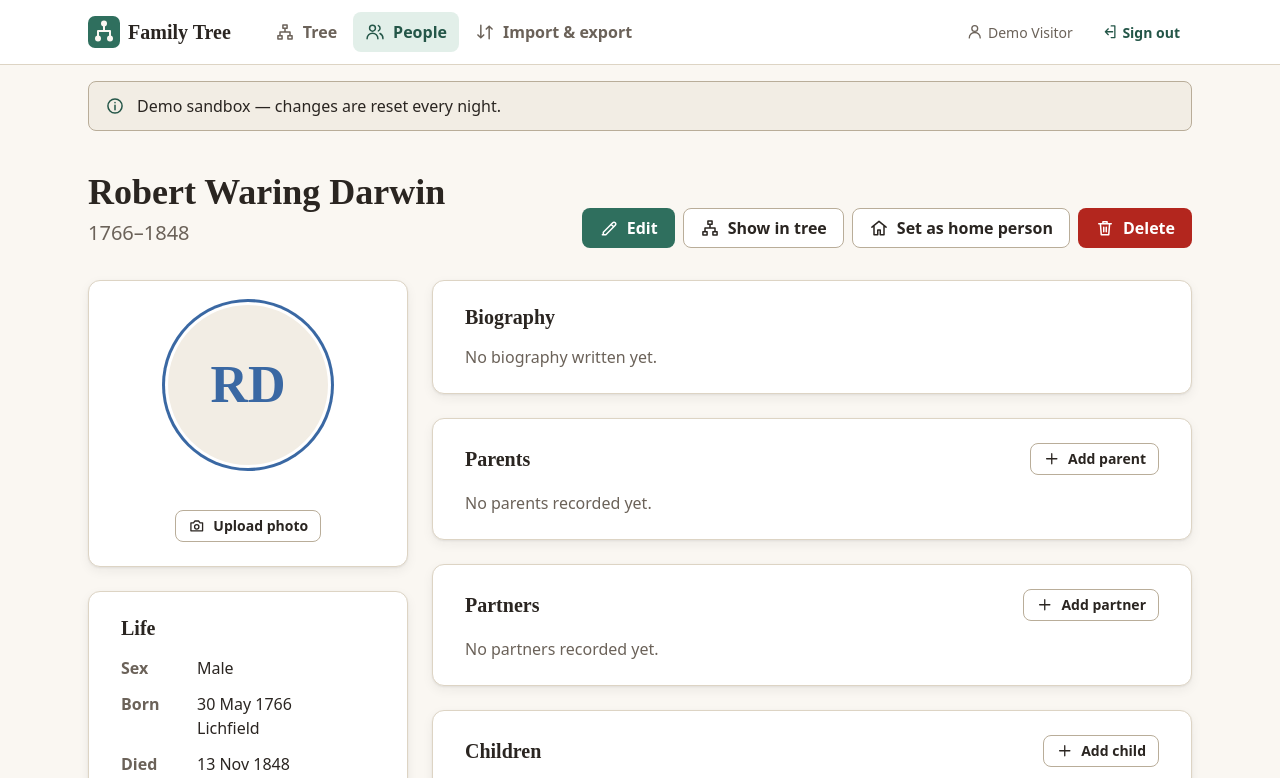
Test: adding a child links the chosen person as a child
Click the button "Add child". click: [1101, 751]
box: x1=1043 y1=735 x2=1159 y2=767
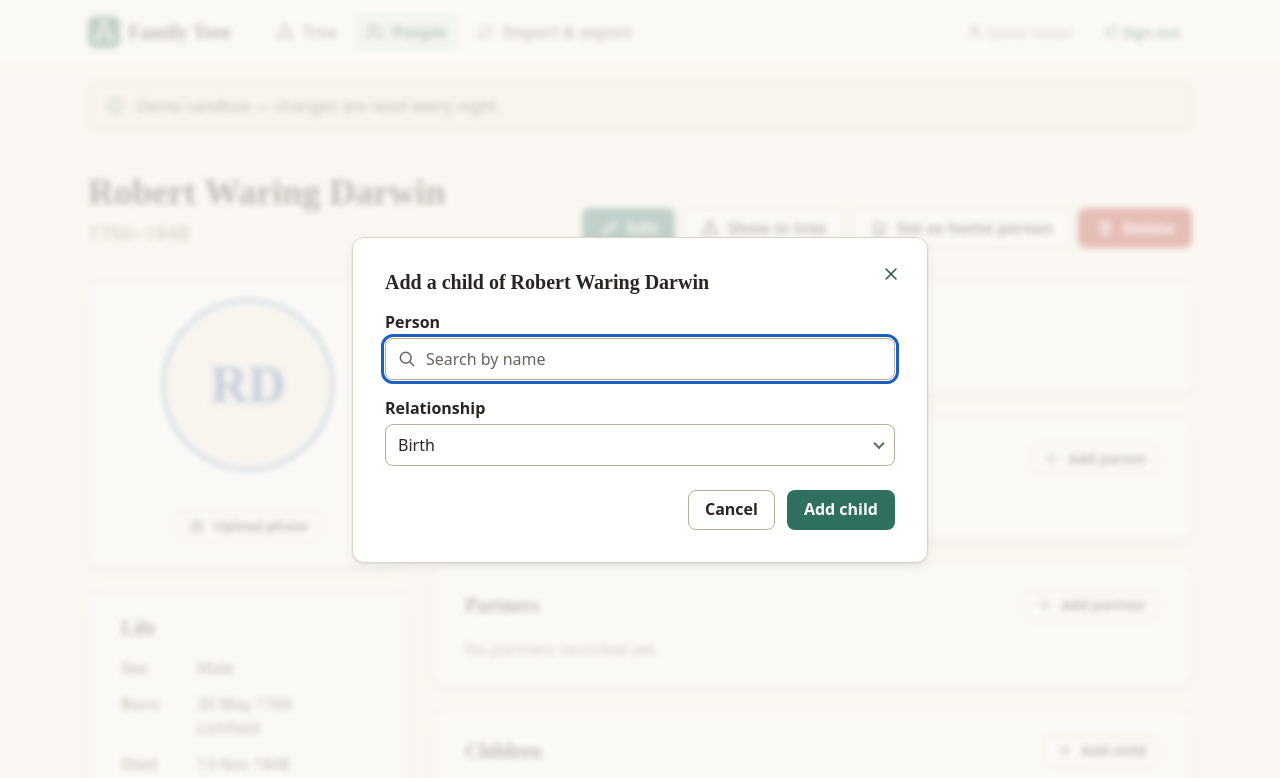
Type "emma" into the dropdown labelled "Person". click: [640, 359]
box: x1=385 y1=338 x2=895 y2=380
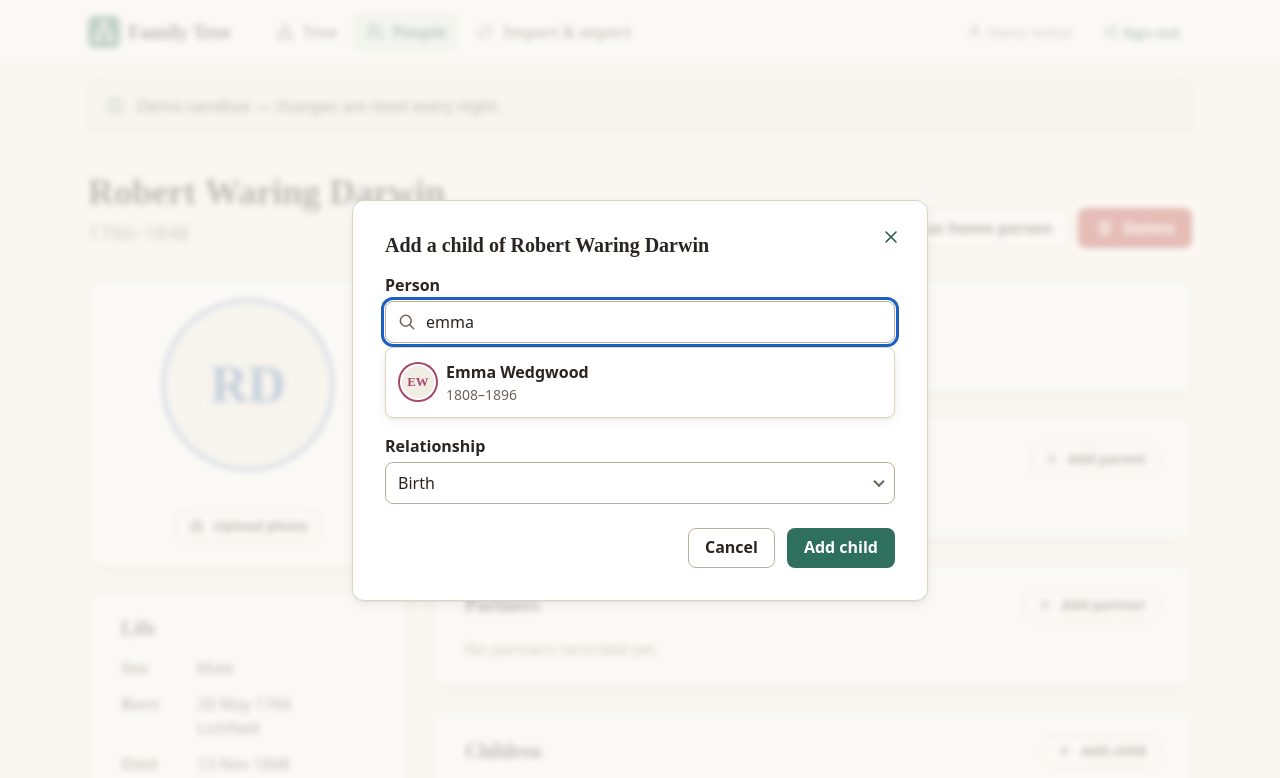
Result: the number of options is 1 at x1=402 y1=360 x2=589 y2=404
Press Arrowdown Enter
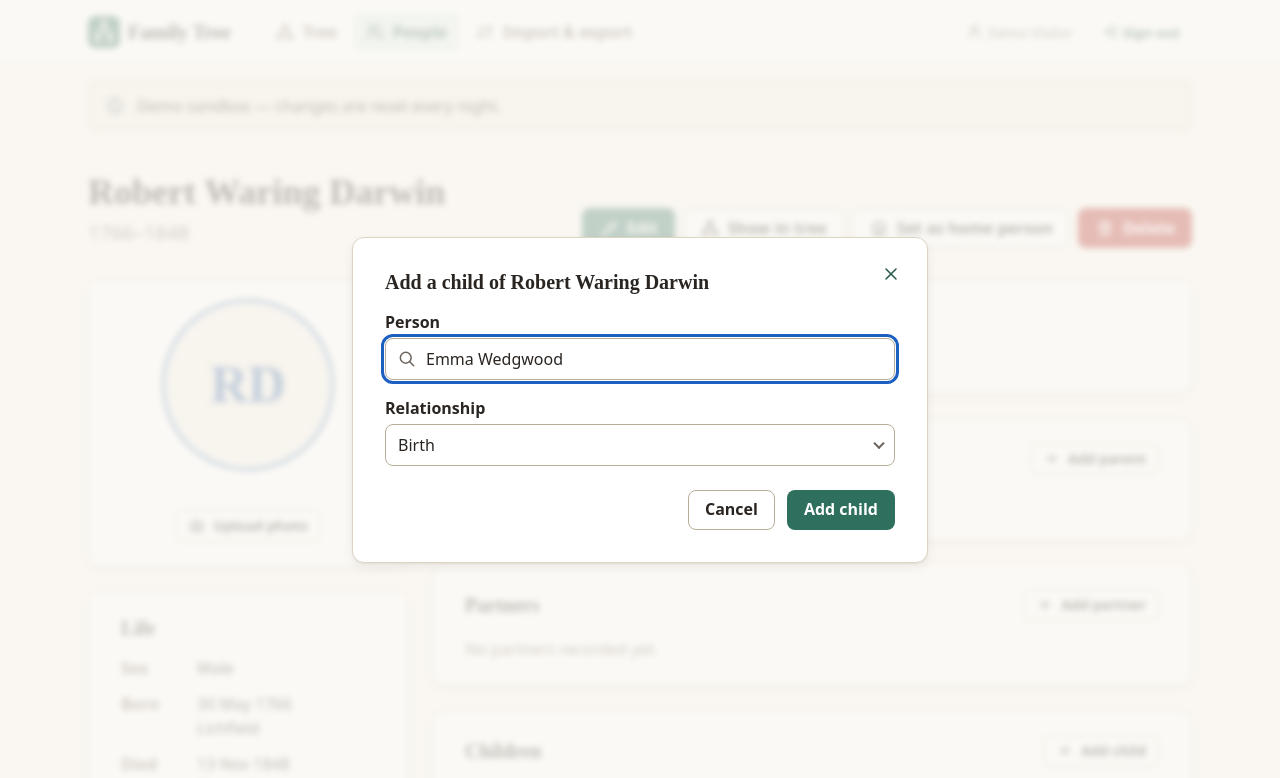
Click the button "Add child". click: [841, 510]
box: x1=787 y1=490 x2=895 y2=530
(page scrolled)
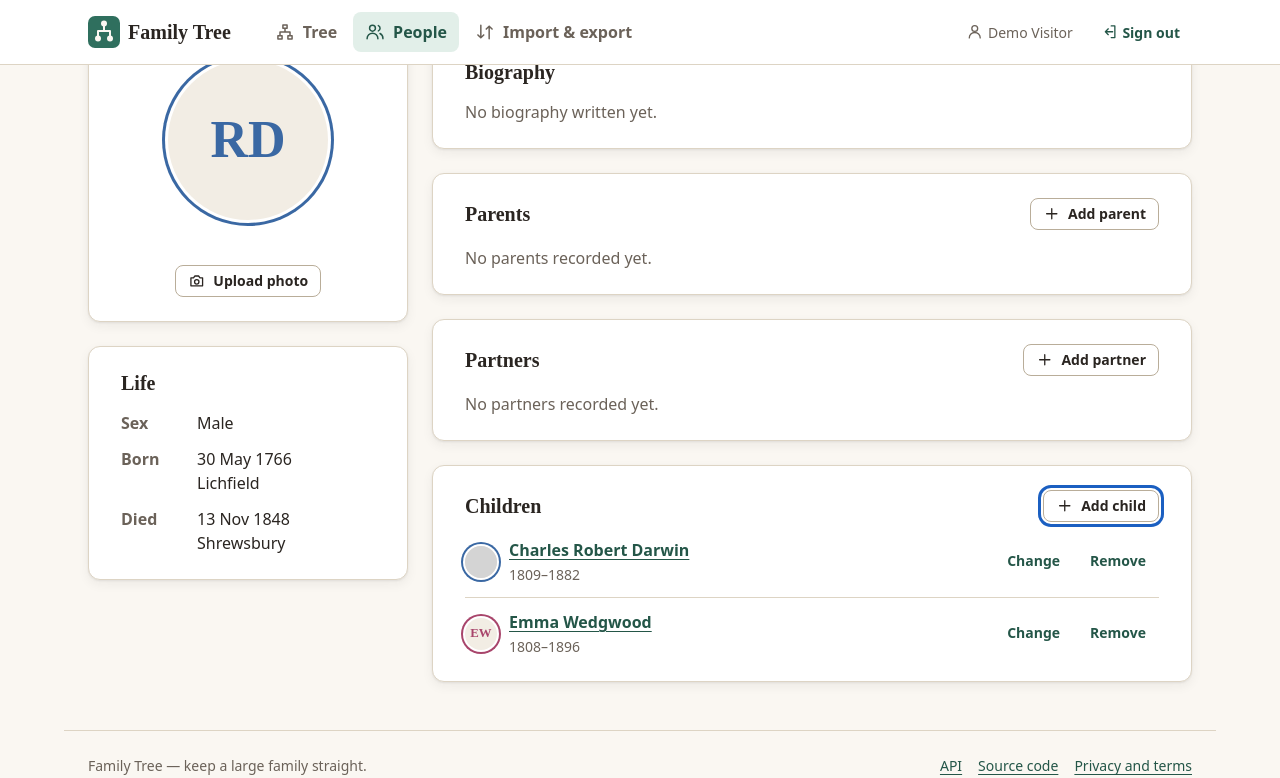
Result: the link "Emma Wedgwood" is shown at x1=509 y1=611 x2=652 y2=633
